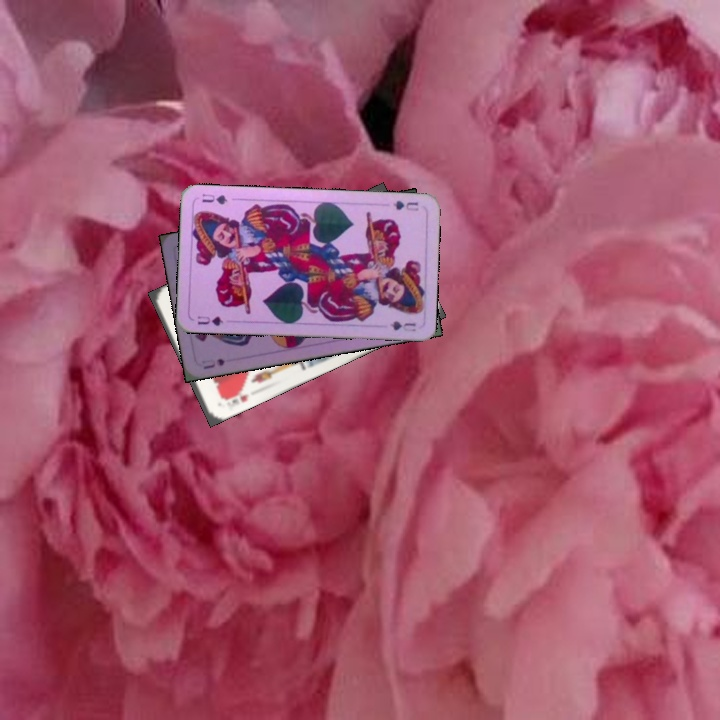GU: (389, 196, 421, 214), (193, 312, 226, 328)
HK: (217, 385, 252, 406)
SU: (198, 354, 227, 372)
